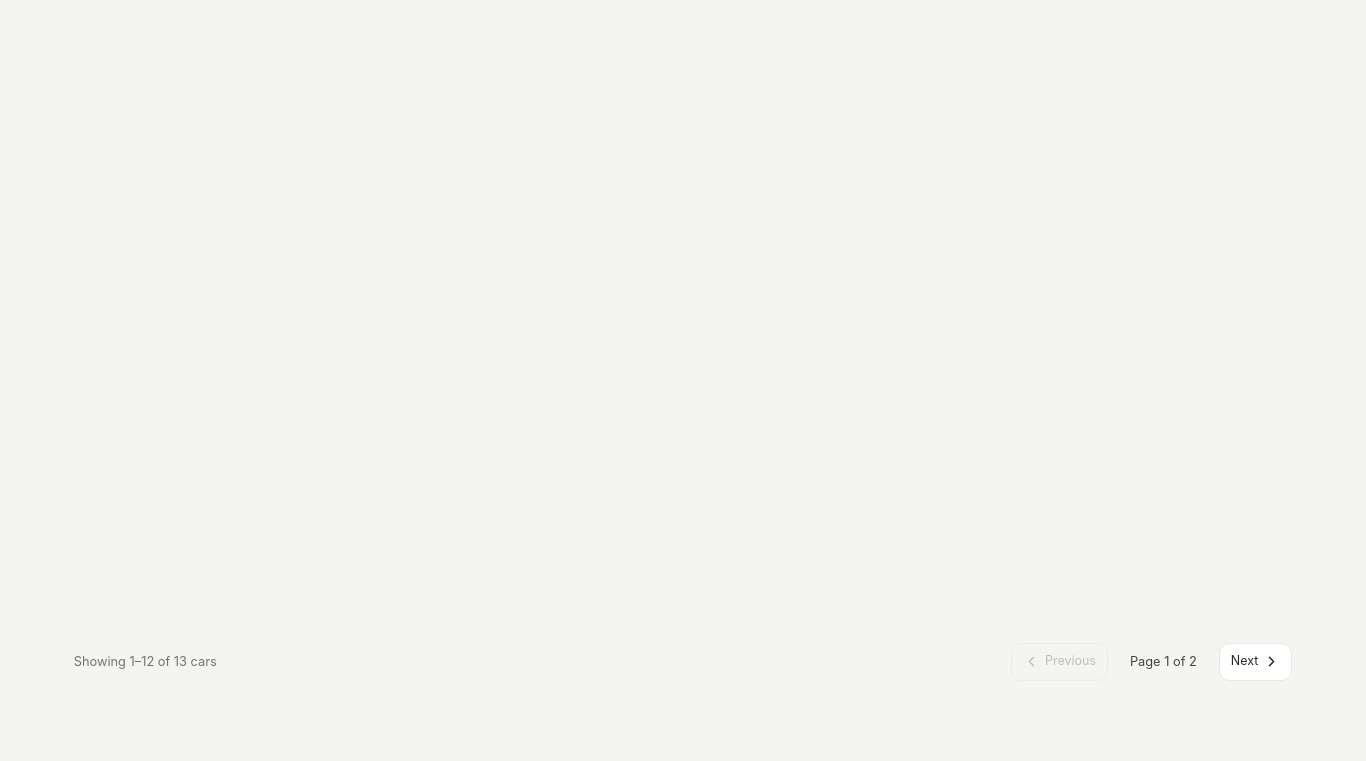
Test: InventoryPage pagination › requests twelve vehicles by default and navigates to the next page
The image size is (1366, 761).
(page scrolled)
Click the button with aria-label "next inventory page" at (1255,662), box x1=1219 y1=642 x2=1292 y2=681
(page scrolled)
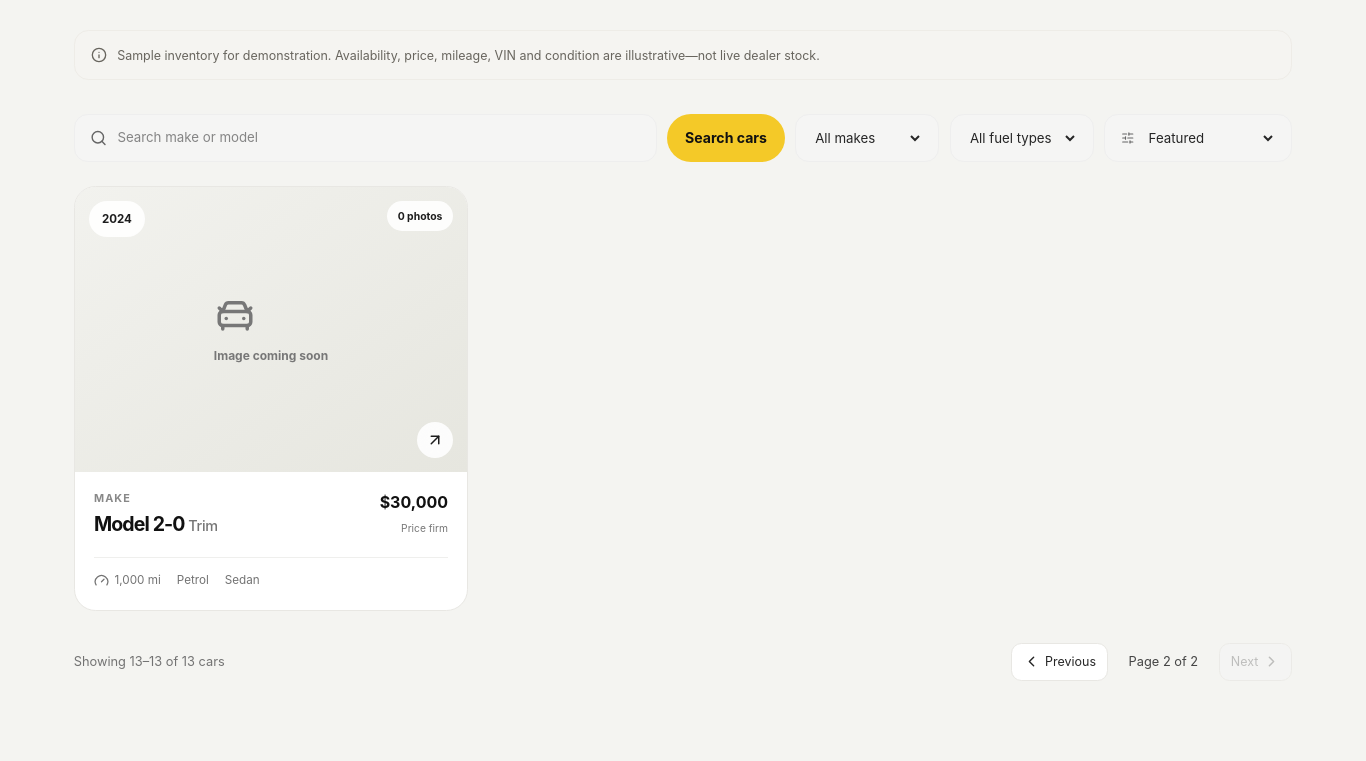
expect the text "Page 2 of 2" is shown: met, box x1=1129 y1=654 x2=1198 y2=669
